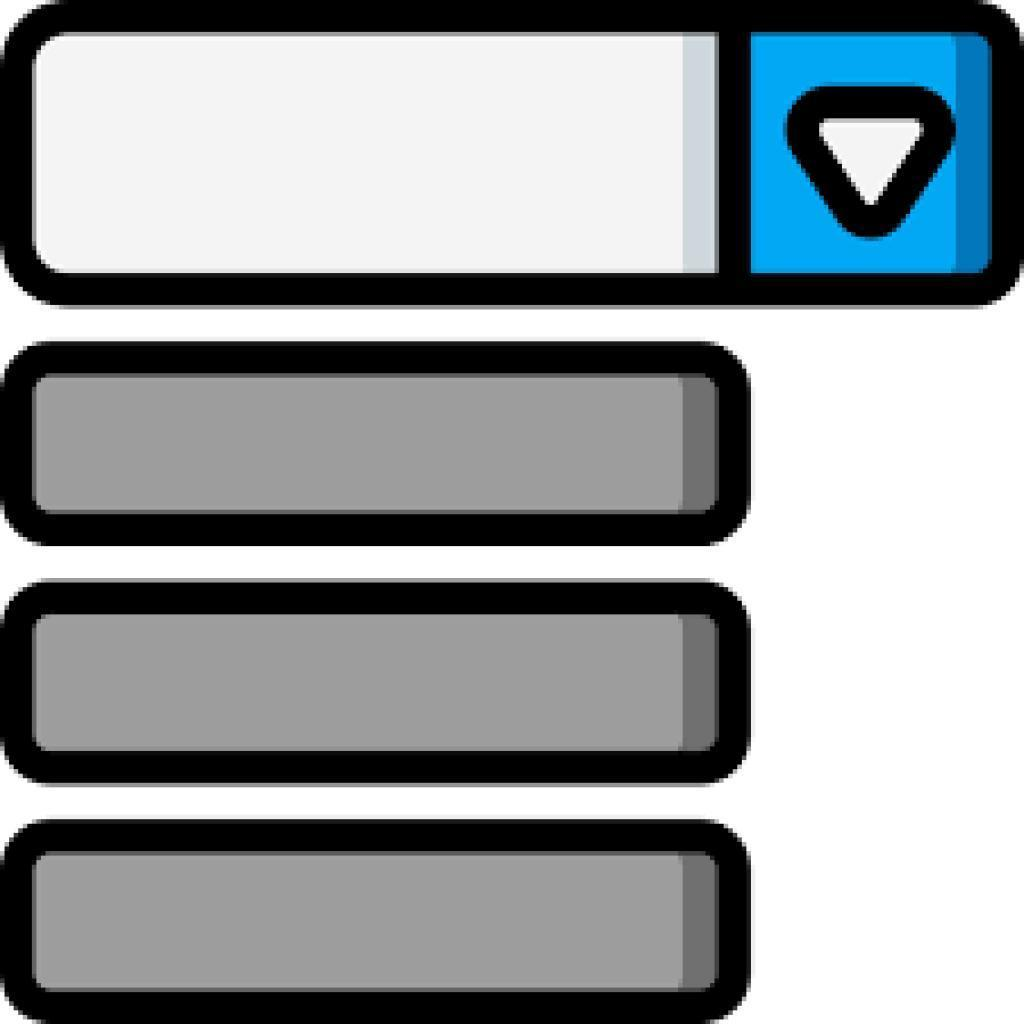dropdown: (1, 1, 1024, 310)
input: (2, 578, 754, 789), (2, 340, 753, 548), (1, 818, 754, 1024)
